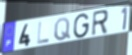1: (121, 6, 129, 31)
4: (18, 23, 32, 48)
G: (73, 13, 91, 40)
L: (36, 21, 50, 46)
Q: (53, 17, 71, 42)
R: (90, 9, 109, 38)
